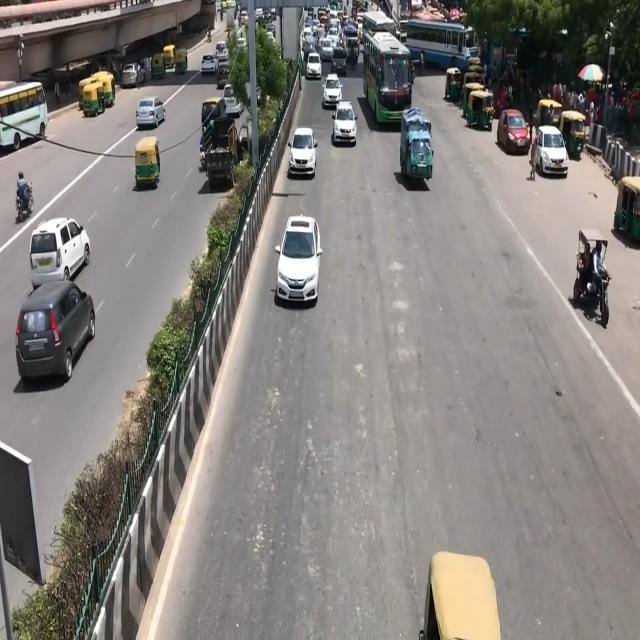Bus: (366, 43, 414, 132)
Car: (12, 275, 97, 382), (276, 218, 318, 316), (287, 122, 321, 185)
Tempo: (399, 104, 437, 189)
